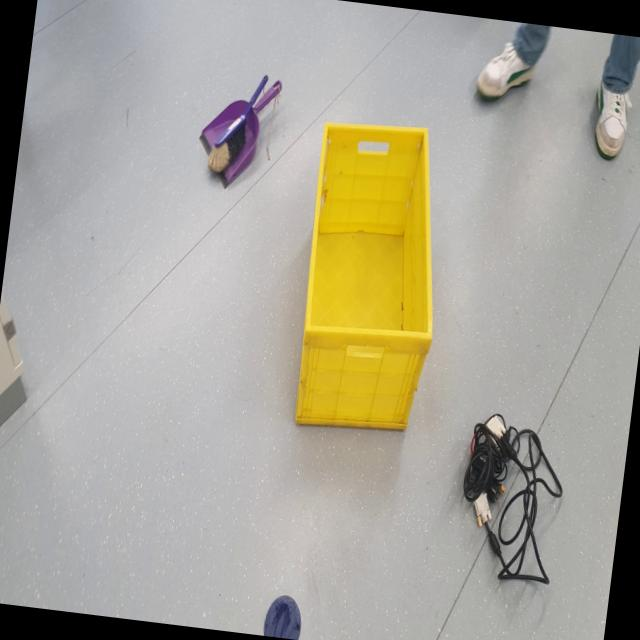box: (280, 90, 467, 446)
